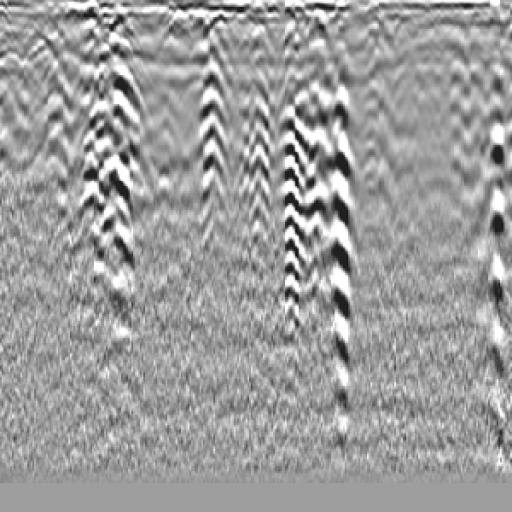metalic: (63, 42, 160, 324)
